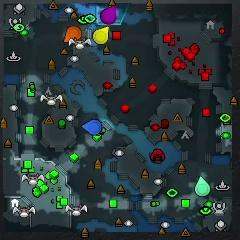p1: (84, 120, 102, 135)
p2: (196, 176, 210, 196)
p3: (100, 5, 117, 25)
p4: (93, 27, 109, 44)
p5: (64, 26, 81, 41)
